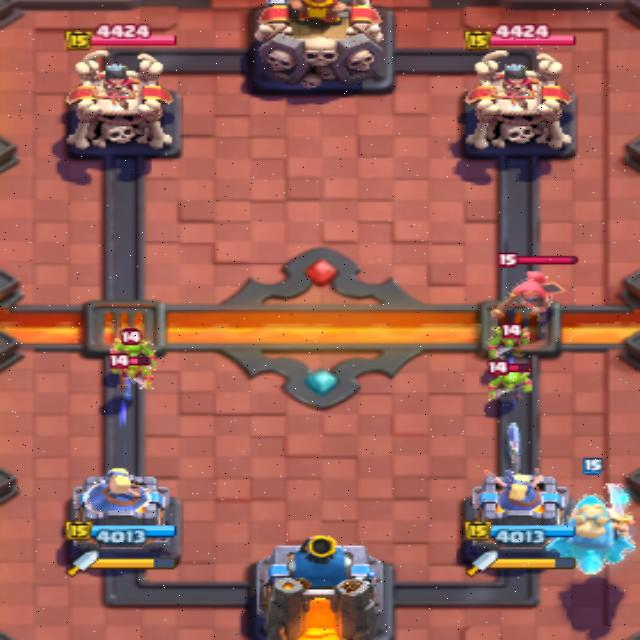EBossBandit: (491, 269, 563, 319)
EGoblin: (488, 362, 532, 415), (110, 328, 156, 367), (489, 323, 530, 359), (110, 355, 153, 389)
EKingTower: (254, 0, 385, 89)
EnemyPrincessTower: (464, 50, 571, 149), (66, 50, 172, 149)
OSpiritEmp: (550, 484, 634, 574)
OwnDagTower: (65, 468, 176, 549), (464, 470, 567, 544)
OwnKingTower: (266, 536, 383, 639)
